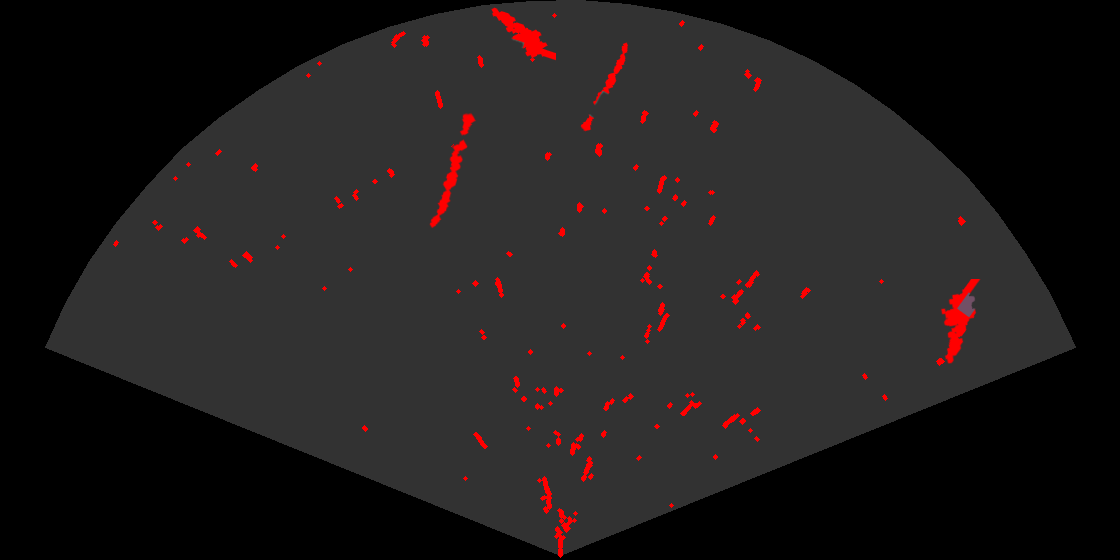chain: (428, 111, 478, 230), (579, 41, 630, 133)
frogman: (939, 279, 982, 365), (490, 6, 556, 62)
